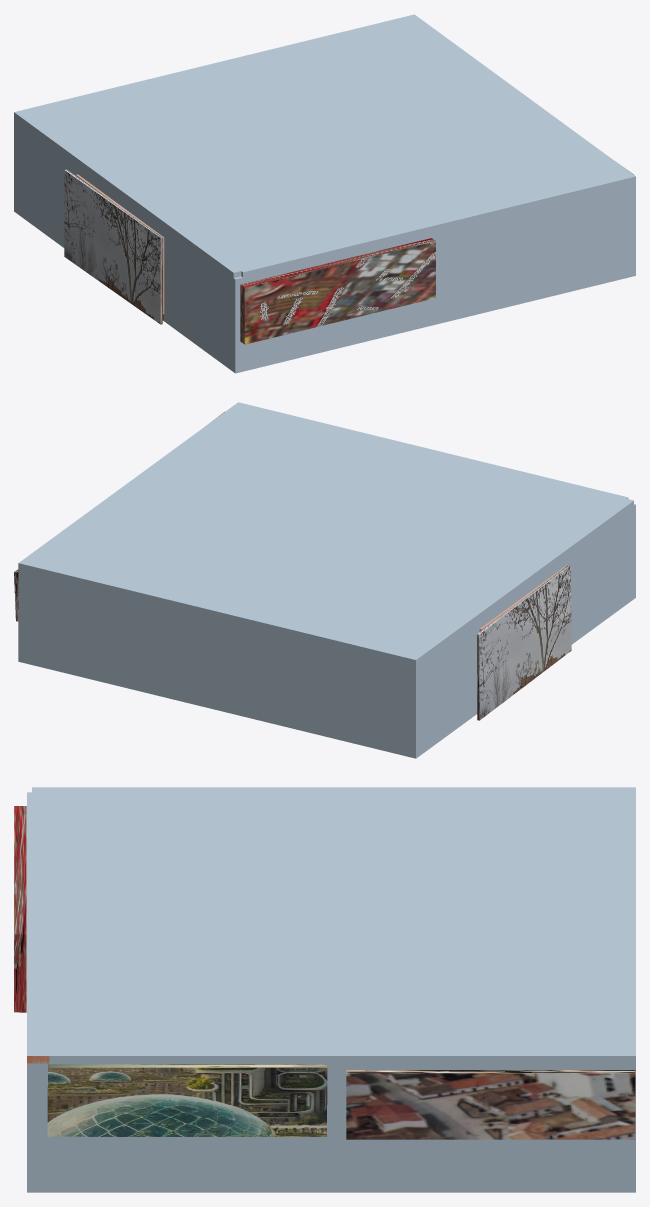
The model's file is museo.glb.
3 renders of one model, top to bottom at view 1: azimuth 30°, elevation 25°; view 2: azimuth 150°, elevation 25°; view 3: azimuth 270°, elevation 25°, orthographic. The views are drawn at different scales.
Visible parts, largest first — view 1: Plane, vegetacion, Malasana; view 2: Plane, Malasana; view 3: Plane, futuro, Cube, vegetacion.
Boxes of the visible parts, x1,y1,x2,y2 form: Plane: [14, 14, 635, 373]; vegetacion: [240, 238, 435, 344]; Malasana: [64, 169, 162, 324]; Plane: [18, 402, 635, 758]; Malasana: [477, 564, 571, 720]; Plane: [27, 787, 635, 1192]; futuro: [47, 1064, 327, 1136]; Cube: [346, 1070, 635, 1139]; vegetacion: [14, 806, 26, 1012].
Size of the model in its own units: 584 by 137 by 554.
12 materials, 4 textured.
